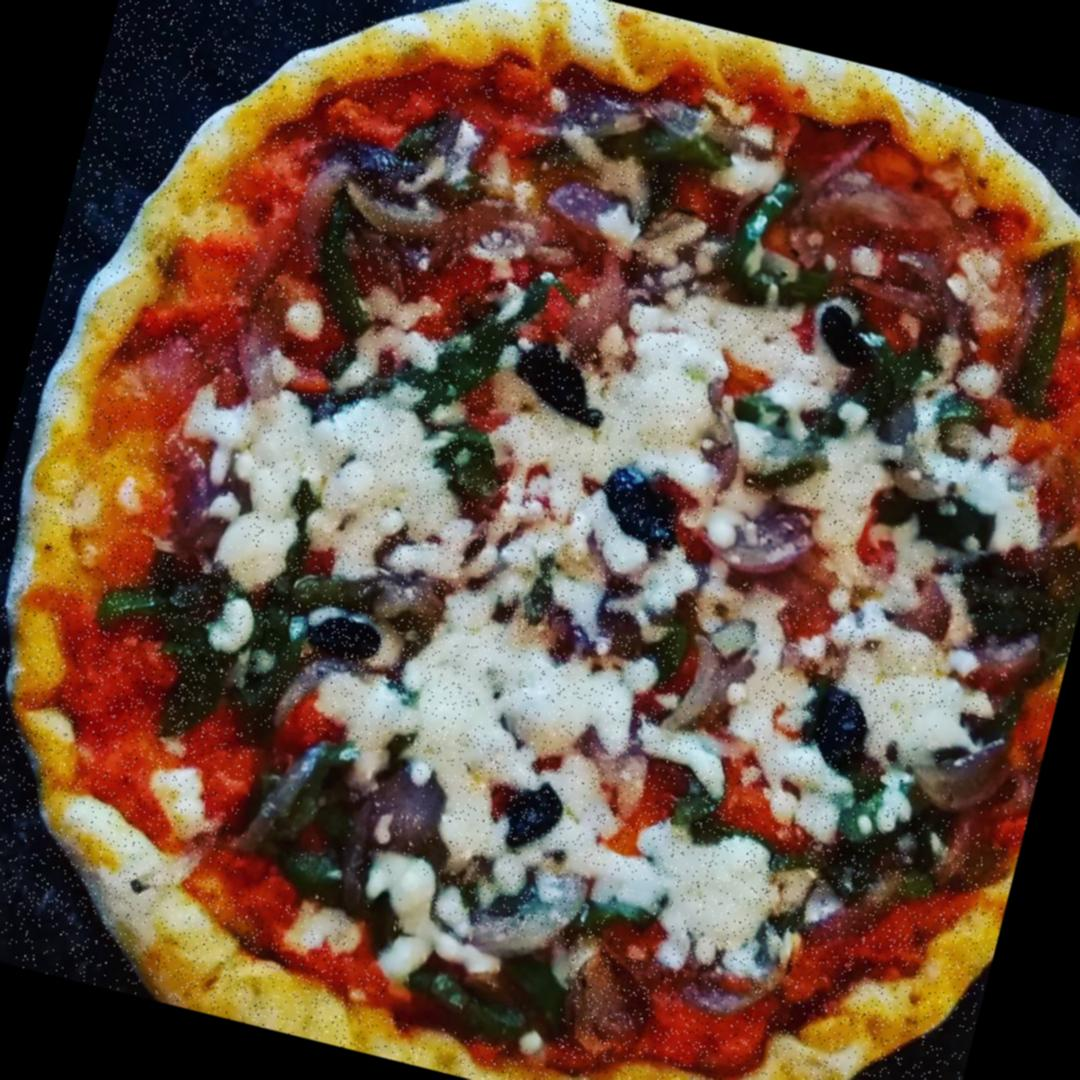Mushroom: (548, 944, 674, 1076), (902, 704, 1020, 834), (338, 158, 464, 253)
Olives: (494, 330, 628, 440), (594, 454, 696, 560), (484, 754, 582, 864), (792, 674, 886, 782), (297, 600, 401, 686), (807, 288, 894, 379)
Onion: (888, 698, 1048, 892), (197, 225, 322, 424), (331, 744, 463, 932), (788, 127, 966, 244), (455, 848, 601, 988), (226, 719, 340, 878), (675, 905, 806, 1039), (522, 60, 668, 180), (153, 426, 270, 566), (286, 129, 390, 279), (841, 223, 978, 334), (689, 486, 826, 596), (558, 240, 655, 385), (662, 628, 768, 755), (671, 369, 768, 504), (940, 609, 1058, 712), (986, 258, 1053, 398), (268, 650, 362, 744), (540, 170, 637, 251)
Peppers: (327, 225, 578, 458), (204, 462, 348, 733), (77, 556, 246, 752), (225, 725, 384, 919), (379, 910, 586, 1059), (730, 820, 942, 942), (721, 162, 854, 318), (288, 194, 411, 350), (861, 464, 1019, 577), (815, 314, 936, 454), (410, 403, 527, 518), (818, 749, 928, 870), (1007, 246, 1080, 418), (640, 761, 752, 870), (597, 108, 747, 186), (572, 869, 686, 952), (345, 864, 429, 972), (509, 538, 577, 646), (725, 382, 808, 449), (930, 388, 991, 440)
Pizza: (0, 0, 1080, 1080)
